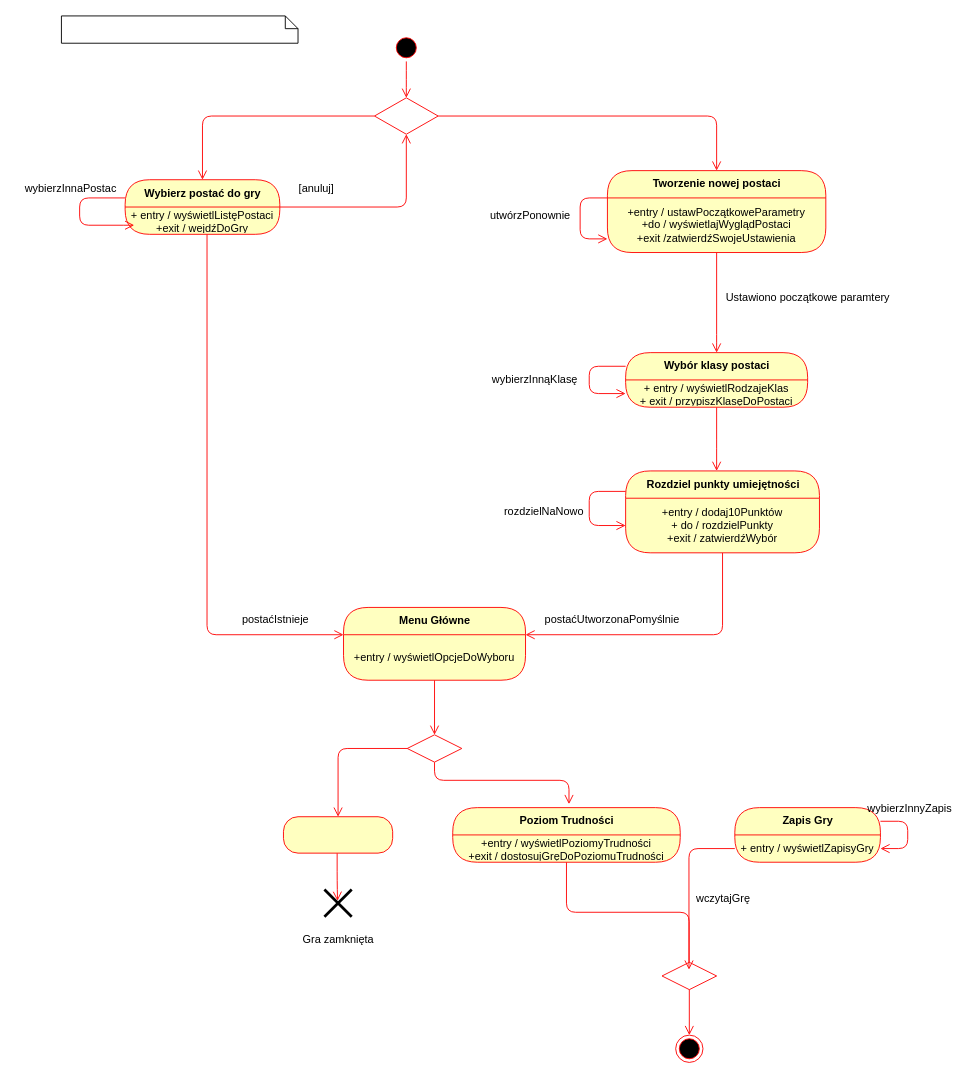
Image size: 975x1078. Some labels were removed from this diagram. The centre of each missing label's shape, as x and y in pixels:
Rozpoczęcie gry i tworzenie nowej postaci: the point at 179,29
Wyjście z gry: the point at 338,834
